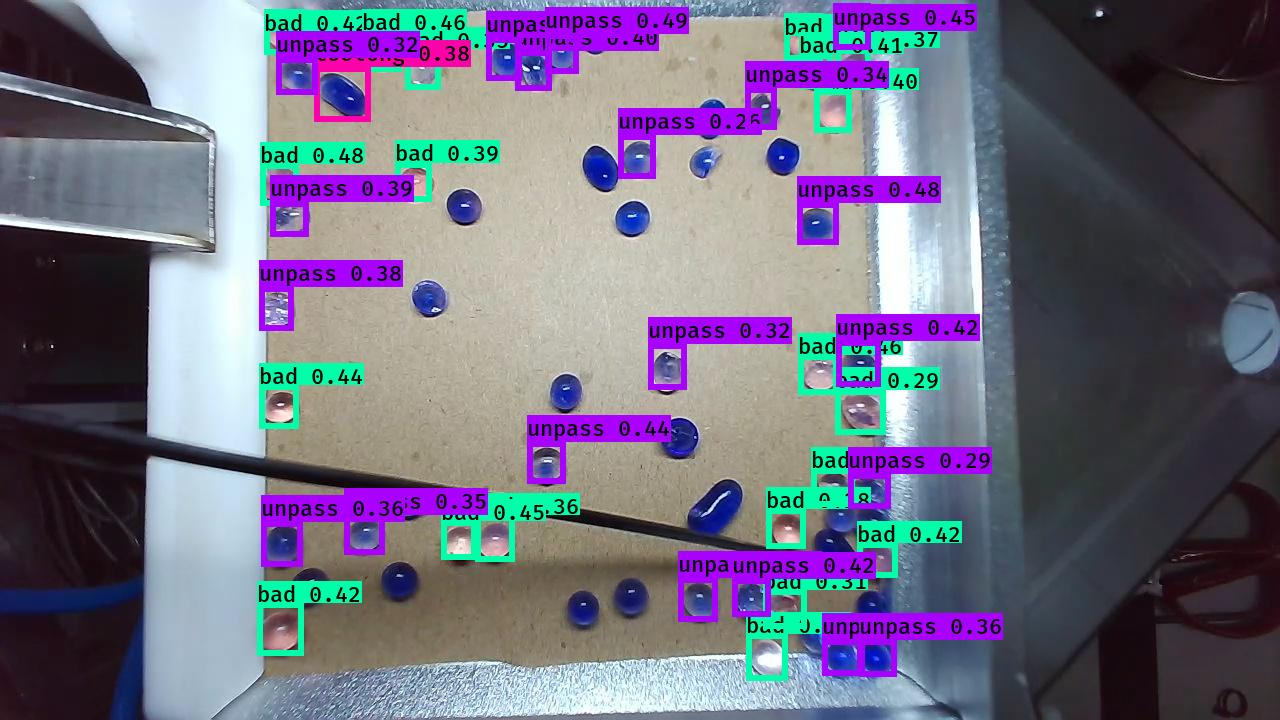bad: (835, 389, 886, 437), (256, 606, 304, 655), (784, 15, 829, 62), (266, 9, 310, 55), (815, 92, 859, 135), (261, 163, 304, 204), (747, 631, 788, 672), (765, 588, 806, 629), (767, 510, 809, 549), (397, 166, 436, 206), (475, 521, 513, 562), (832, 52, 873, 89), (362, 33, 401, 71), (862, 542, 899, 582), (442, 524, 481, 561), (264, 392, 301, 428), (801, 358, 837, 395), (816, 467, 851, 503), (802, 53, 835, 91), (404, 53, 438, 88)
defact: (687, 143, 727, 181)
pass: (578, 144, 621, 195), (658, 413, 700, 464), (377, 558, 420, 604), (444, 187, 488, 229), (288, 566, 330, 609), (610, 199, 652, 242), (545, 371, 585, 415), (690, 94, 729, 138), (565, 589, 603, 633), (763, 135, 801, 178), (412, 277, 452, 317), (612, 576, 649, 619), (857, 591, 892, 632), (854, 504, 890, 543), (578, 16, 612, 54)
toolong: (683, 478, 745, 544), (812, 528, 863, 585), (315, 72, 371, 122)
unpass: (794, 201, 844, 246), (260, 525, 308, 570), (832, 1, 875, 51), (525, 443, 567, 490), (836, 344, 880, 387), (274, 53, 317, 95), (257, 291, 301, 332), (649, 348, 688, 394), (269, 201, 314, 240), (619, 137, 658, 180), (343, 515, 385, 554), (822, 638, 862, 678), (731, 580, 768, 622), (681, 582, 718, 623), (858, 639, 897, 676), (519, 54, 556, 92), (547, 34, 582, 73), (747, 89, 780, 130), (489, 41, 524, 79), (853, 476, 889, 511), (512, 22, 547, 58), (818, 499, 854, 532)
